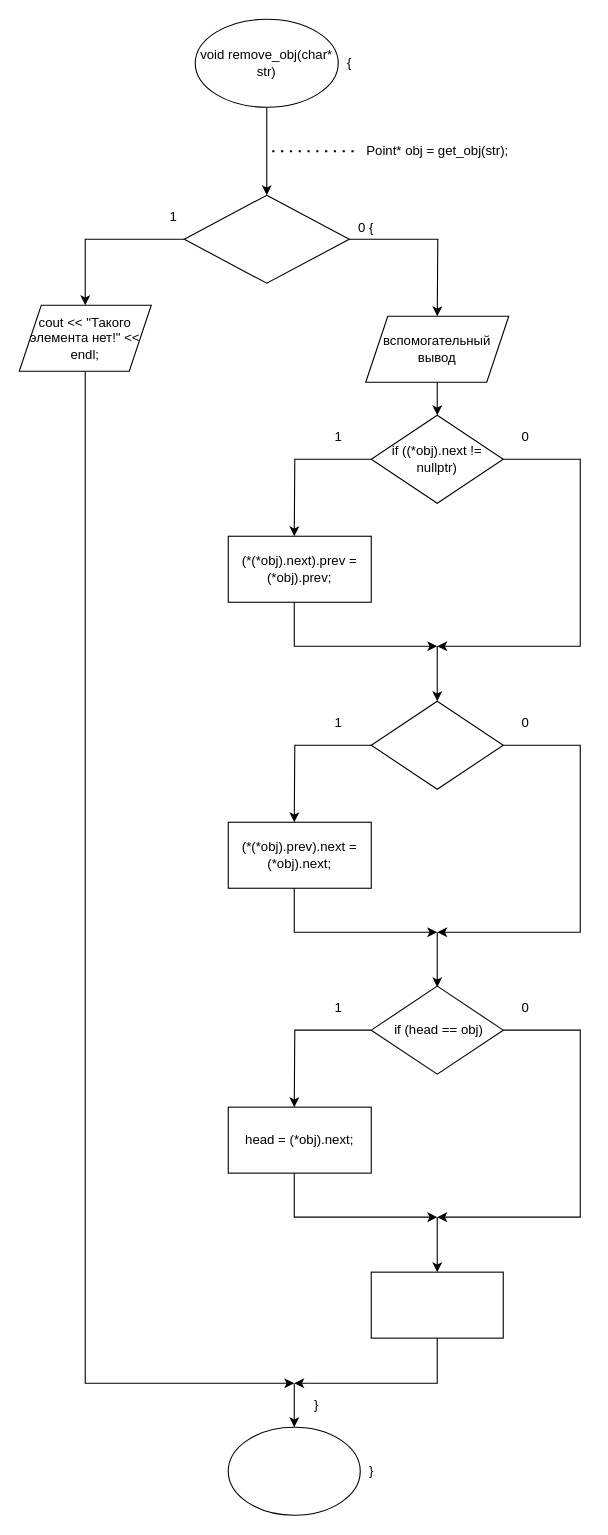
Image size: 608x1535. Some labels were removed from this diagram. The shapes that lost their labels are listed below. From the top down, each one's box as (x1, y1, x2, y2) in pixels, then its label:
(183, 194, 349, 283): if (obj == nullptr)
(370, 700, 503, 789): if ((*obj).prev != nullptr)
(370, 1271, 503, 1338): delete obj;
(227, 1426, 360, 1515): return;
